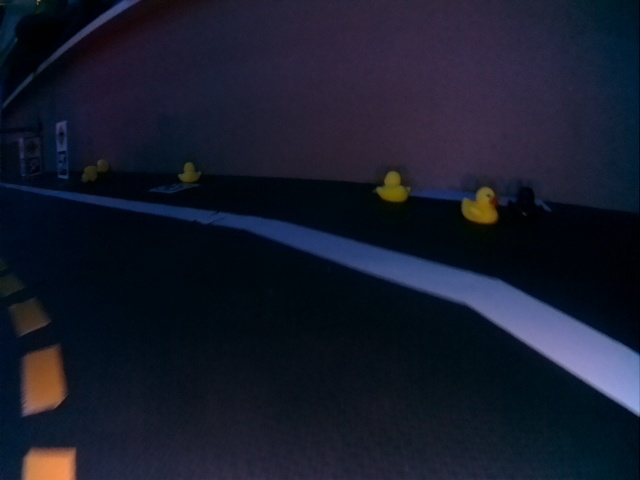Duckie: (463, 189, 495, 224), (379, 173, 411, 201), (182, 164, 200, 182), (82, 167, 93, 181), (100, 159, 109, 171)
QR code: (149, 184, 189, 193)
